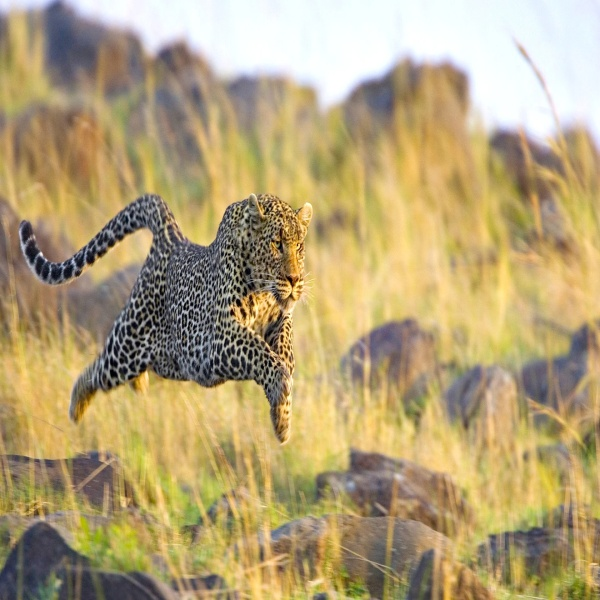Leopard: (18, 188, 324, 446)
